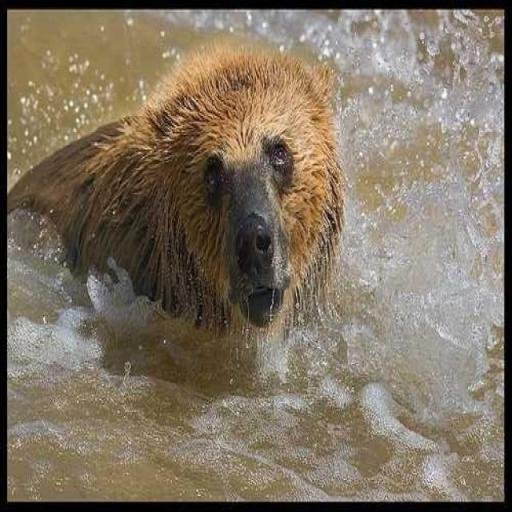Bear: (6, 40, 346, 342)
